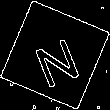N_N: (27, 24, 83, 86)
